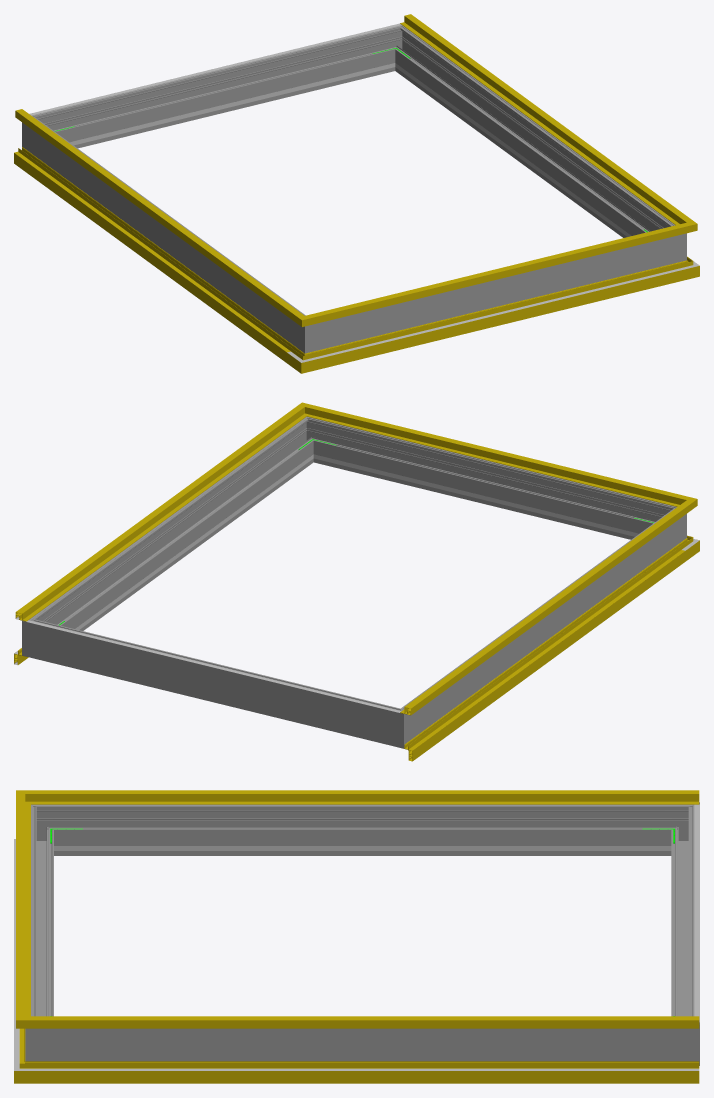
The picture shows the model from 3 angles, top to bottom: view 1: azimuth 30°, elevation 25°; view 2: azimuth 150°, elevation 25°; view 3: azimuth 270°, elevation 25°; orthographic projection. The views are drawn at different scales.
Parts seen in each view (by area): view 1: 3DGeom-276, 3DGeom-297, 3DGeom-298, 3DGeom-268, 3DGeom-90, 3DGeom-85, 3DGeom-128, 3DGeom-123, 3DGeom-118, 3DGeom-244, 3DGeom-105, 3DGeom-220 (+7 smaller); view 2: 3DGeom-298, 3DGeom-276, 3DGeom-297, 3DGeom-268, 3DGeom-85, 3DGeom-128, 3DGeom-123, 3DGeom-118, 3DGeom-239, 3DGeom-278, 3DGeom-105, 3DGeom-220 (+4 smaller); view 3: 3DGeom-268, 3DGeom-297, 3DGeom-97, 3DGeom-118, 3DGeom-128, 3DGeom-276, 3DGeom-298, 3DGeom-123, 3DGeom-232, 3DGeom-98, 3DGeom-220, 3DGeom-284 (+7 smaller).
Boxes of the visible parts, x1,y1,x2,y2 form: 3DGeom-276: (49,30,390,148); 3DGeom-297: (397,34,668,237); 3DGeom-298: (329,239,661,347); 3DGeom-268: (36,124,298,342); 3DGeom-90: (321,264,674,367); 3DGeom-85: (14,147,294,362); 3DGeom-128: (400,14,682,222); 3DGeom-123: (323,227,672,320); 3DGeom-118: (15,109,293,316); 3DGeom-244: (78,69,371,143); 3DGeom-105: (14,151,290,352); 3DGeom-220: (29,23,401,115); 3DGeom-298: (318,421,659,539); 3DGeom-276: (47,623,383,742); 3DGeom-297: (40,425,311,630); 3DGeom-268: (410,515,672,733); 3DGeom-85: (404,545,685,761); 3DGeom-128: (15,413,298,621); 3DGeom-123: (320,408,671,503); 3DGeom-118: (400,508,682,715); 3DGeom-239: (337,460,629,535); 3DGeom-278: (379,701,418,748); 3DGeom-105: (409,550,684,750); 3DGeom-220: (26,620,401,712); 3DGeom-268: (59,804,665,855); 3DGeom-297: (59,1028,665,1061); 3DGeom-97: (48,1061,699,1083); 3DGeom-118: (50,790,699,804); 3DGeom-128: (50,1016,699,1028); 3DGeom-276: (671,816,694,1016); 3DGeom-298: (31,816,53,1016); 3DGeom-123: (16,804,30,1013); 3DGeom-232: (87,846,638,850); 3DGeom-98: (48,1068,699,1070); 3DGeom-220: (694,804,699,1022); 3DGeom-284: (665,1010,699,1065).
Bounding box in the file's own units: 2.44 × 0.3069 × 3.05.
